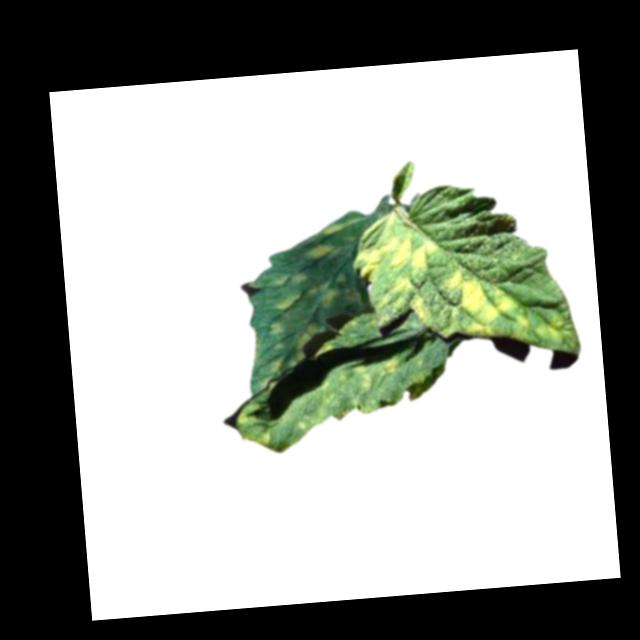Leaf_Mold: (442, 264, 531, 346), (352, 231, 441, 280), (389, 274, 429, 331), (289, 321, 331, 364), (306, 278, 338, 311), (305, 241, 340, 264), (274, 291, 303, 313), (382, 357, 402, 375), (254, 432, 272, 450)
